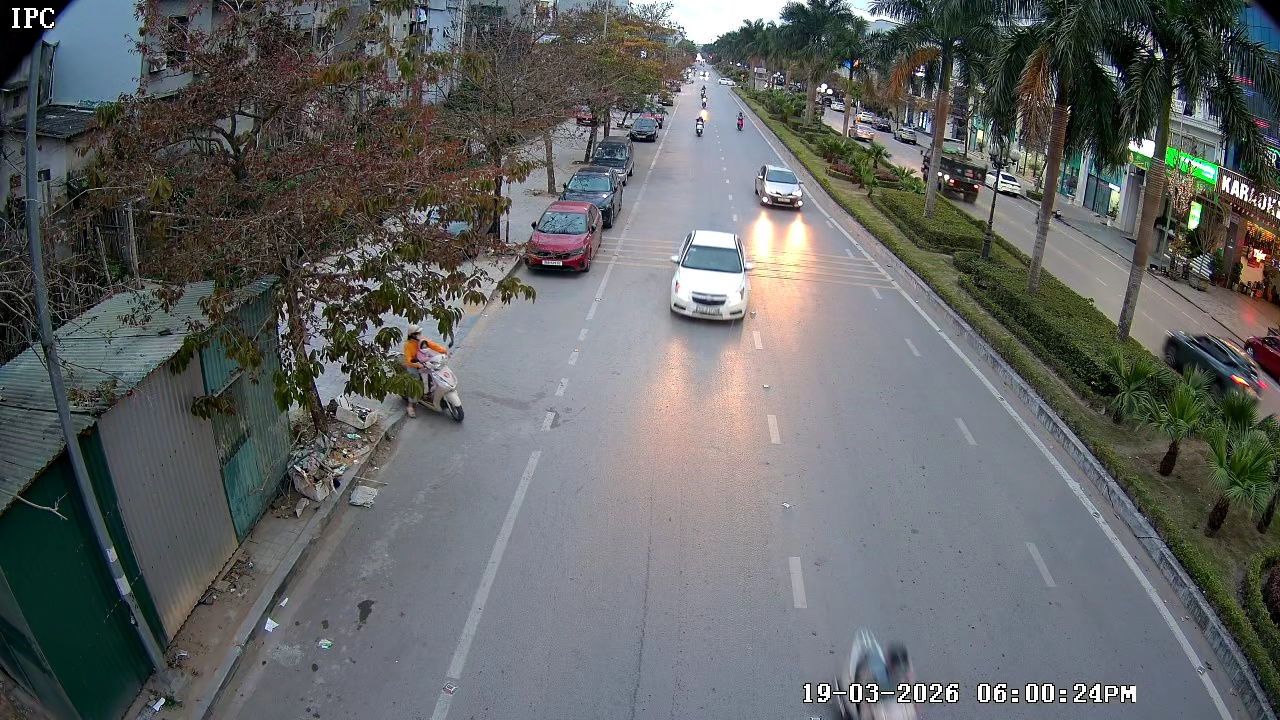car: (668, 228, 750, 324), (524, 201, 602, 276), (560, 169, 623, 229), (754, 164, 803, 211), (629, 115, 659, 147)
motorbike: (380, 319, 480, 422), (693, 115, 709, 138), (734, 111, 748, 133)
